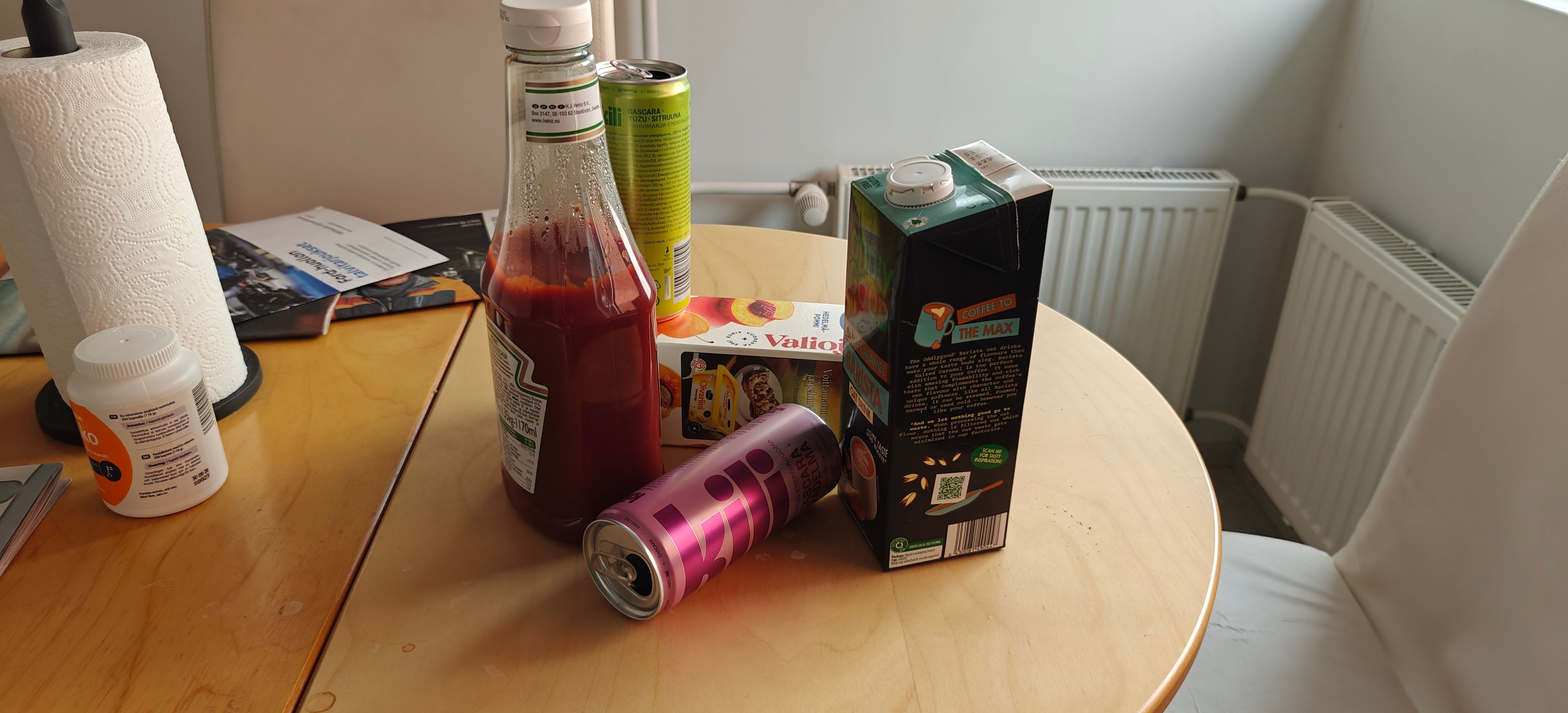Dryckeskartong: (837, 140, 1054, 572), (566, 295, 972, 448)
Pantburk: (582, 403, 842, 621), (591, 60, 690, 323)
